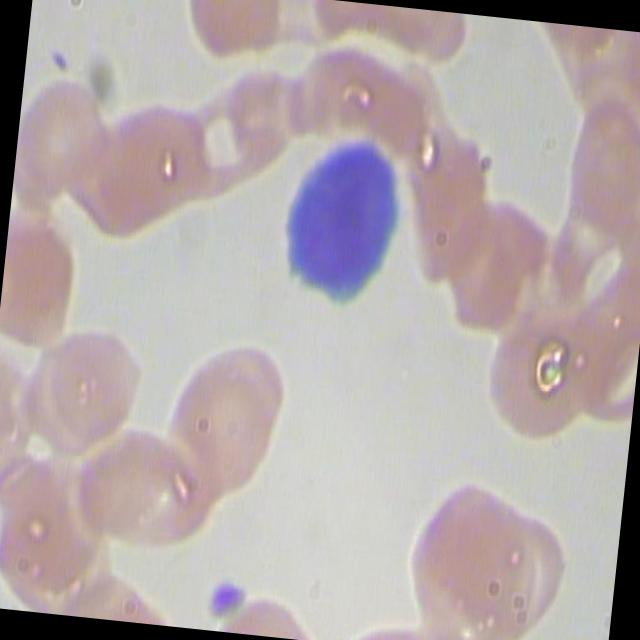RBC: (388, 465, 560, 640), (152, 330, 302, 511), (67, 412, 224, 552), (11, 313, 150, 463), (477, 304, 595, 446), (12, 65, 126, 204), (110, 82, 223, 221), (65, 106, 178, 244)
WBC: (266, 127, 421, 330)
